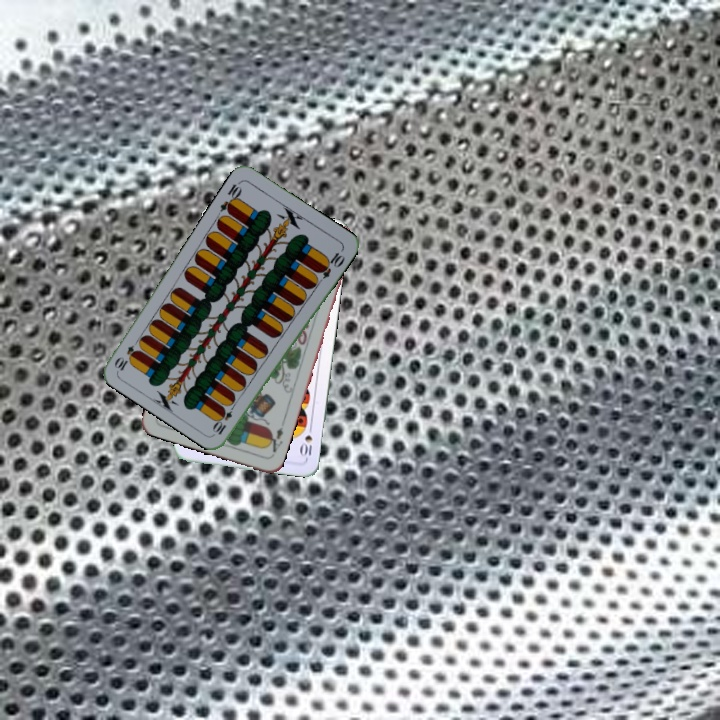E10: (216, 177, 245, 216), (210, 399, 238, 437)
EA: (262, 423, 286, 455)
S10: (297, 421, 315, 461)
